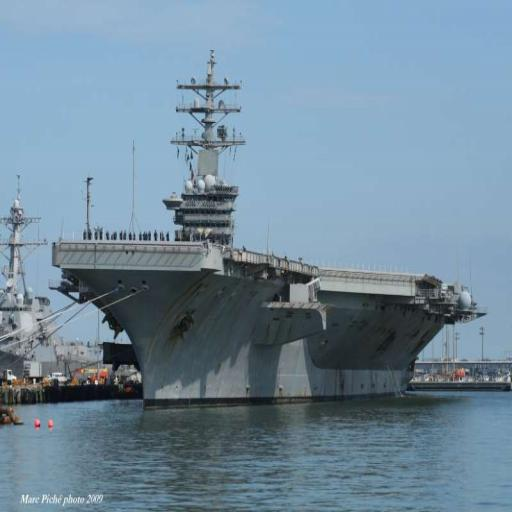Portanaves: (48, 42, 493, 413)
